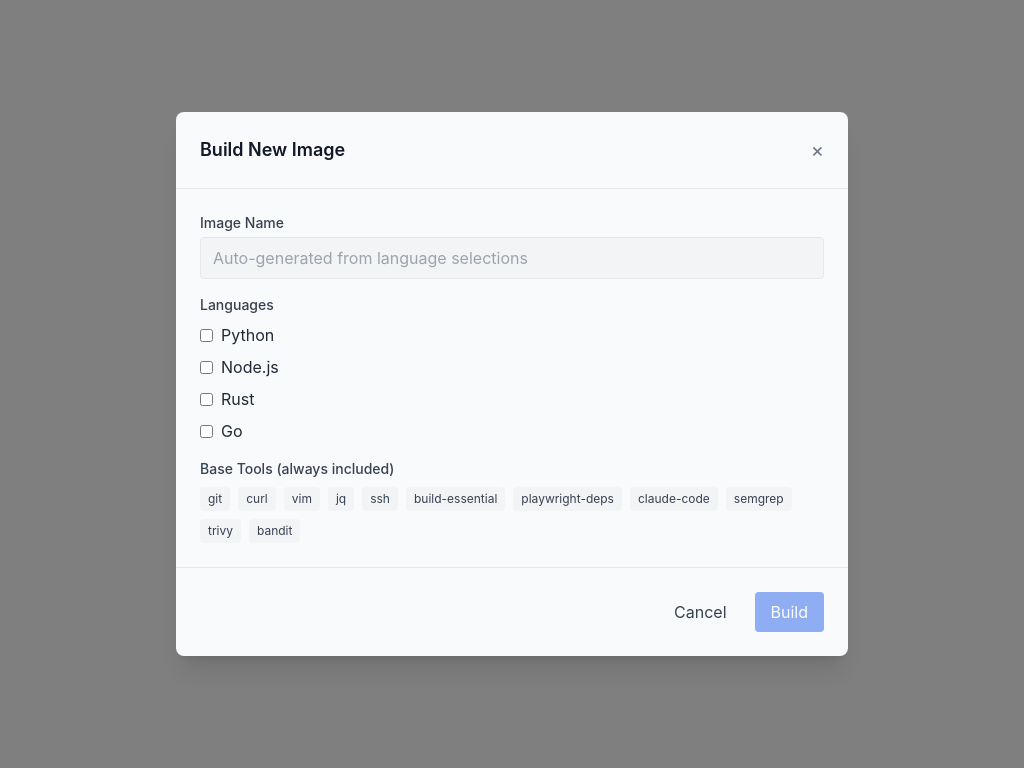
ImageBuilderDialog › checking a language shows its version dropdown
The image size is (1024, 768).
Expected: the field labelled "Version:" is not shown
# Check Python
Click the checkbox labelled "Python" at {"x": 206, "y": 335}, box [200, 328, 213, 342]
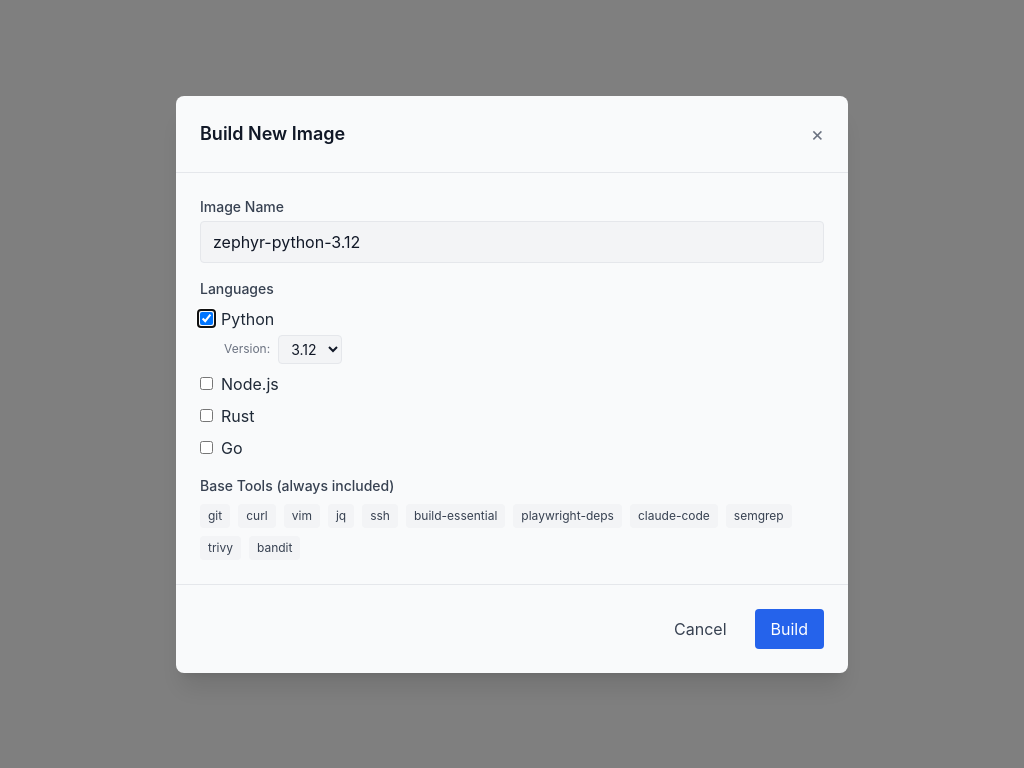
Now the dropdown labelled "Version:" is shown, box [278, 334, 342, 364]
